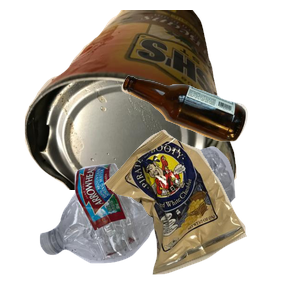glass: (119, 73, 300, 207)
metal: (22, 10, 251, 190)
plastic: (37, 144, 265, 300)
trash: (101, 127, 300, 300)
